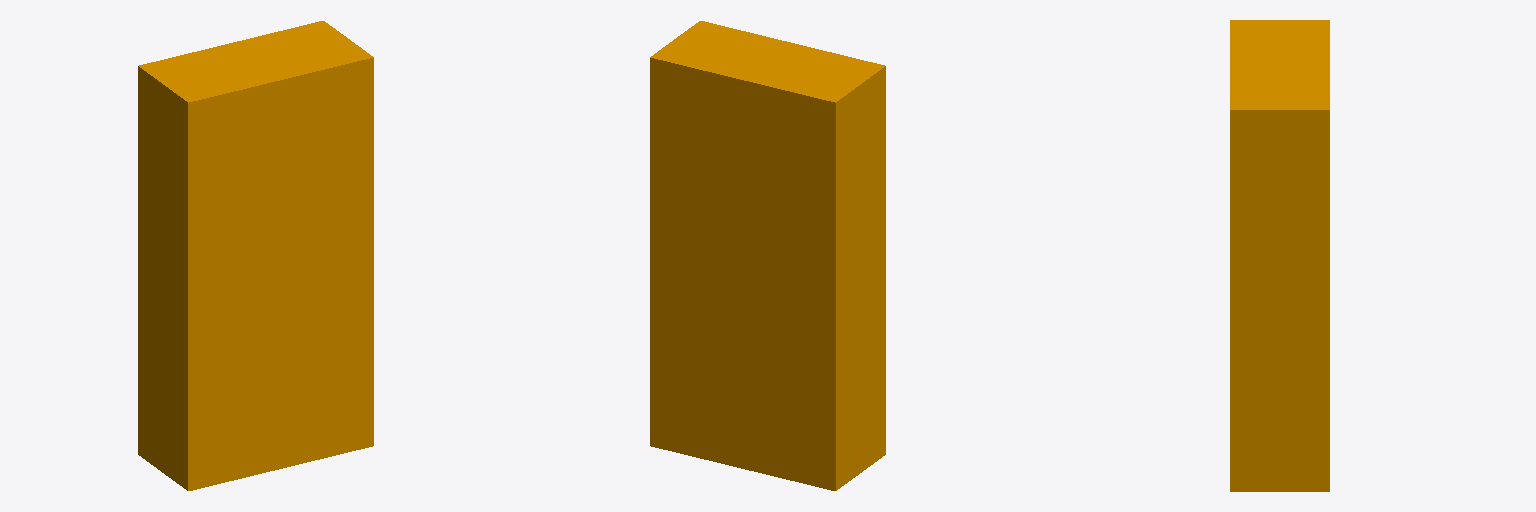
The robot description file, URDF, robot "kelloges":
<?xml version="1.0" ?>
<robot name="kelloges">

<material name="silver">
  <color rgba="1 1 1 1.000"/>
</material>

<link name="base_link">
  <inertial>
    <origin xyz="0.0 0.0 0.085" rpy="0 0 0"/>
    <mass value="4.537299999999999"/>
    <inertia ixx="0.01153230416666666" iyy="0.013659163541666658" izz="0.0033368060416666652" ixy="0.0" iyz="0.0" ixz="0.0"/>
  </inertial>
  <visual>
    <origin xyz="0 0 0" rpy="0 0 0"/>
    <geometry>
      <mesh filename="meshes/dominosugar.obj" scale="0.01 0.01 0.01"/>
    </geometry>
    <material name="silver"/>
    <material/>
  </visual>
  <collision>
    <origin xyz="0 0 0" rpy="0 0 0"/>
    <geometry>
      <mesh filename="meshes/base_link.stl" scale="0.001 0.001 0.001"/>
    </geometry>
  </collision>
</link>

</robot>

--- Facts derived from the render (not from the file) ---
Views: 3 orthographic renders of the robot side by side, from view 1: azimuth 30°, elevation 25°; view 2: azimuth 150°, elevation 25°; view 3: azimuth 270°, elevation 25°.
Model kelloges with 1 links and 0 joints (none), rooted at base_link, posed every joint at zero.
Links seen in each view (by area): view 1: base_link; view 2: base_link; view 3: base_link.
Boxes of the visible links, left/top/right/bottom form: base_link: left=138, top=21, right=373, bottom=490; base_link: left=650, top=21, right=885, bottom=490; base_link: left=1230, top=20, right=1329, bottom=491.
Bounding box of the posed robot: 0.085 × 0.04 × 0.17 m (x, y, z).
1 mesh visuals loaded from 1 distinct referenced files (1 OBJ).